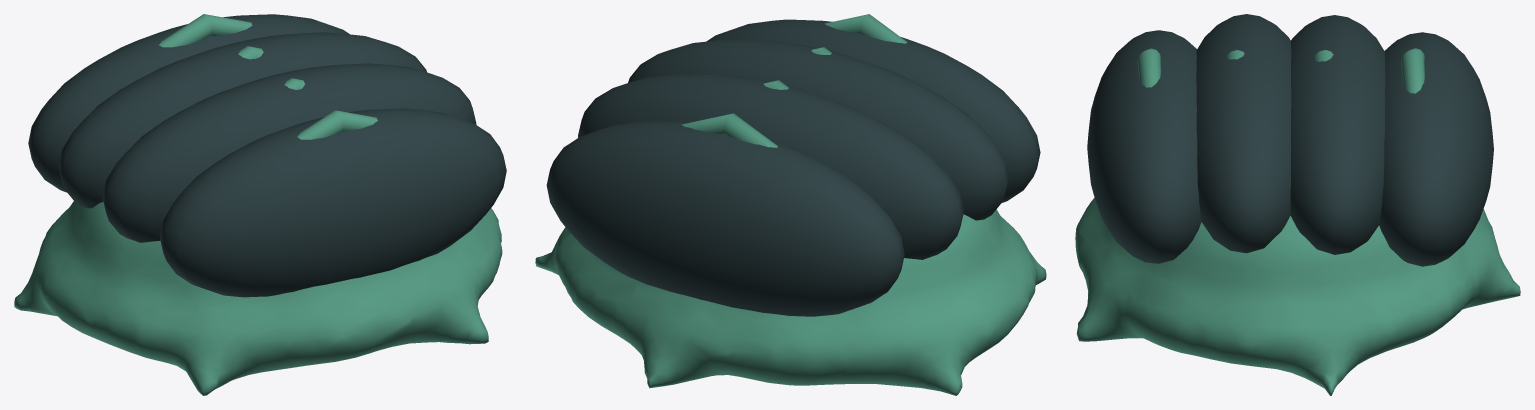
The model's file is defense_growth.glb.
3 views of the same model, side by side, from view 1: azimuth 30°, elevation 25°; view 2: azimuth 150°, elevation 25°; view 3: azimuth 270°, elevation 25° (orthographic). The views are drawn at different scales.
Parts seen in each view (by area): view 1: defense_growth; view 2: defense_growth; view 3: defense_growth.
Boxes of the visible parts, x1,y1,x2,y2 form: defense_growth: (14, 14, 506, 395); defense_growth: (535, 14, 1046, 395); defense_growth: (1075, 14, 1520, 395).
Size of the model in its own units: 0.7785 by 0.4422 by 0.684.
